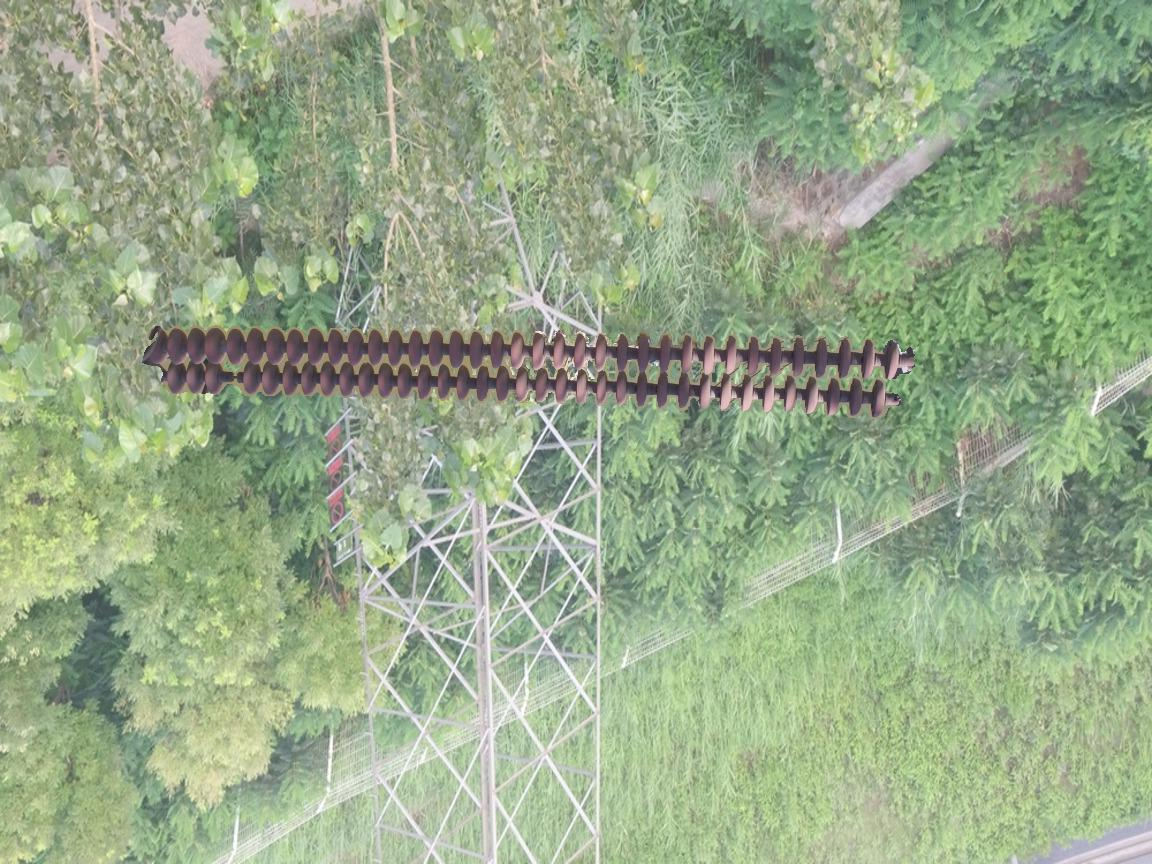insulator: (147, 320, 915, 417)
insulator_stringdrop: (203, 362, 261, 396)
